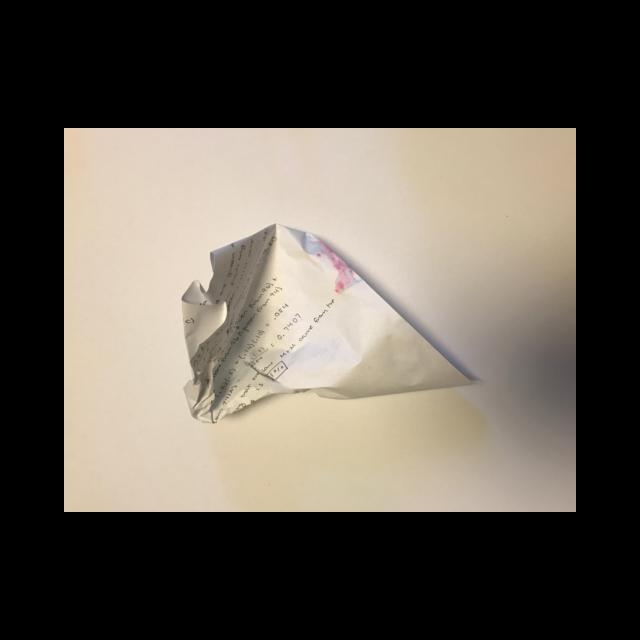paper: (179, 221, 478, 423)
